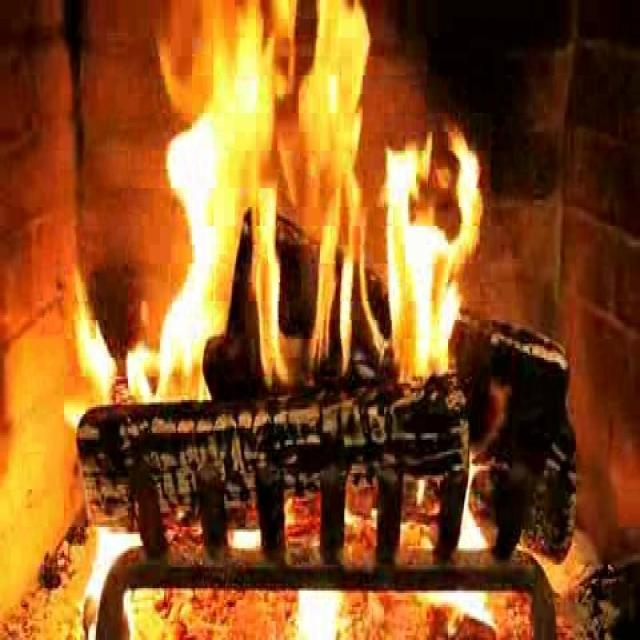Fire: (148, 6, 456, 424)
